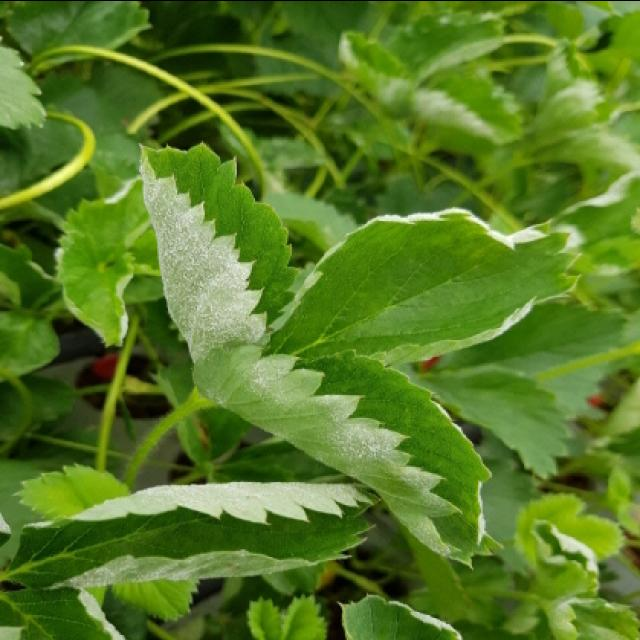Powdery Mildew Leaf: (195, 338, 507, 568), (260, 205, 584, 365), (7, 480, 383, 590), (138, 138, 300, 363), (54, 185, 136, 350)
